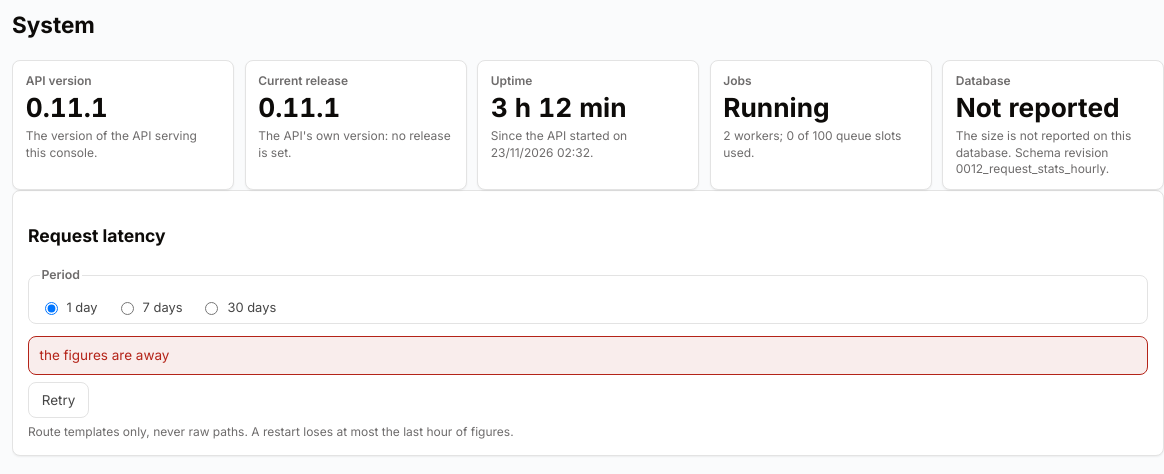
Test: SystemPage › shows an error and a Retry for the latency figures on their own
Expected: the message reads "the figures are away", [40,347,170,363]
Expected: the element "API version" is shown, [12,60,234,190]
Click the button "Retry" at (59,400), box [28,382,89,418]
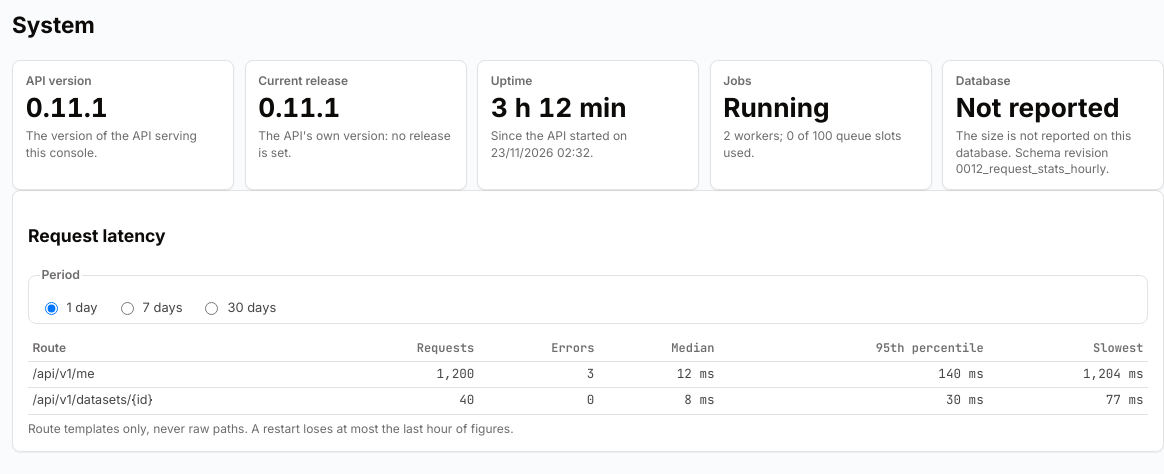
Expected: the table named "Request latency by route" is shown, [28,336,1148,414]
